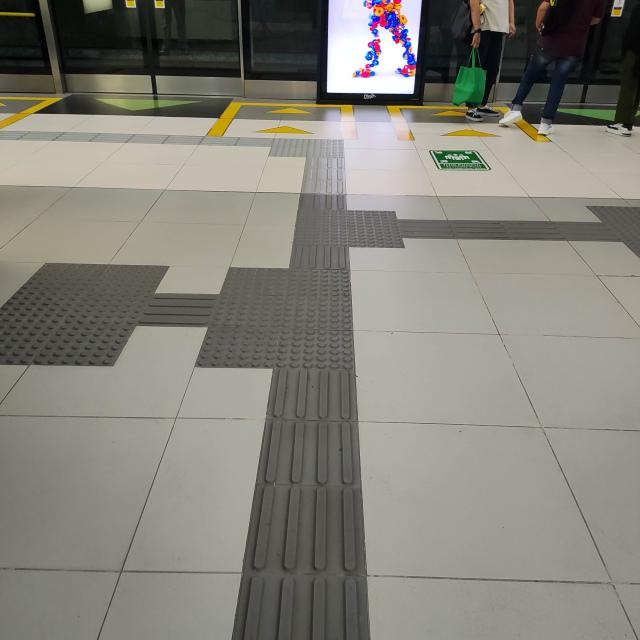kiri: (225, 118, 364, 176)
